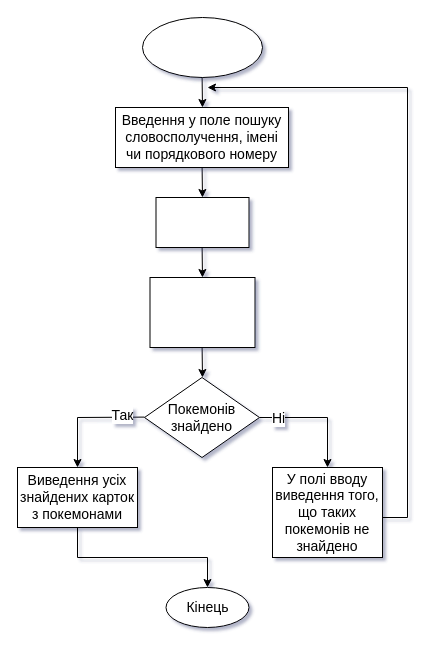
Image size: 439x651. Some labels were removed from this diagram. Each missing label, with the centre of its shape:
"Йде пошук відповідних покемонів до запиту пошуку" belongs at (202,312).
"Натискання кнопки пошуку" belongs at (202,222).
"Початок" belongs at (202,47).
